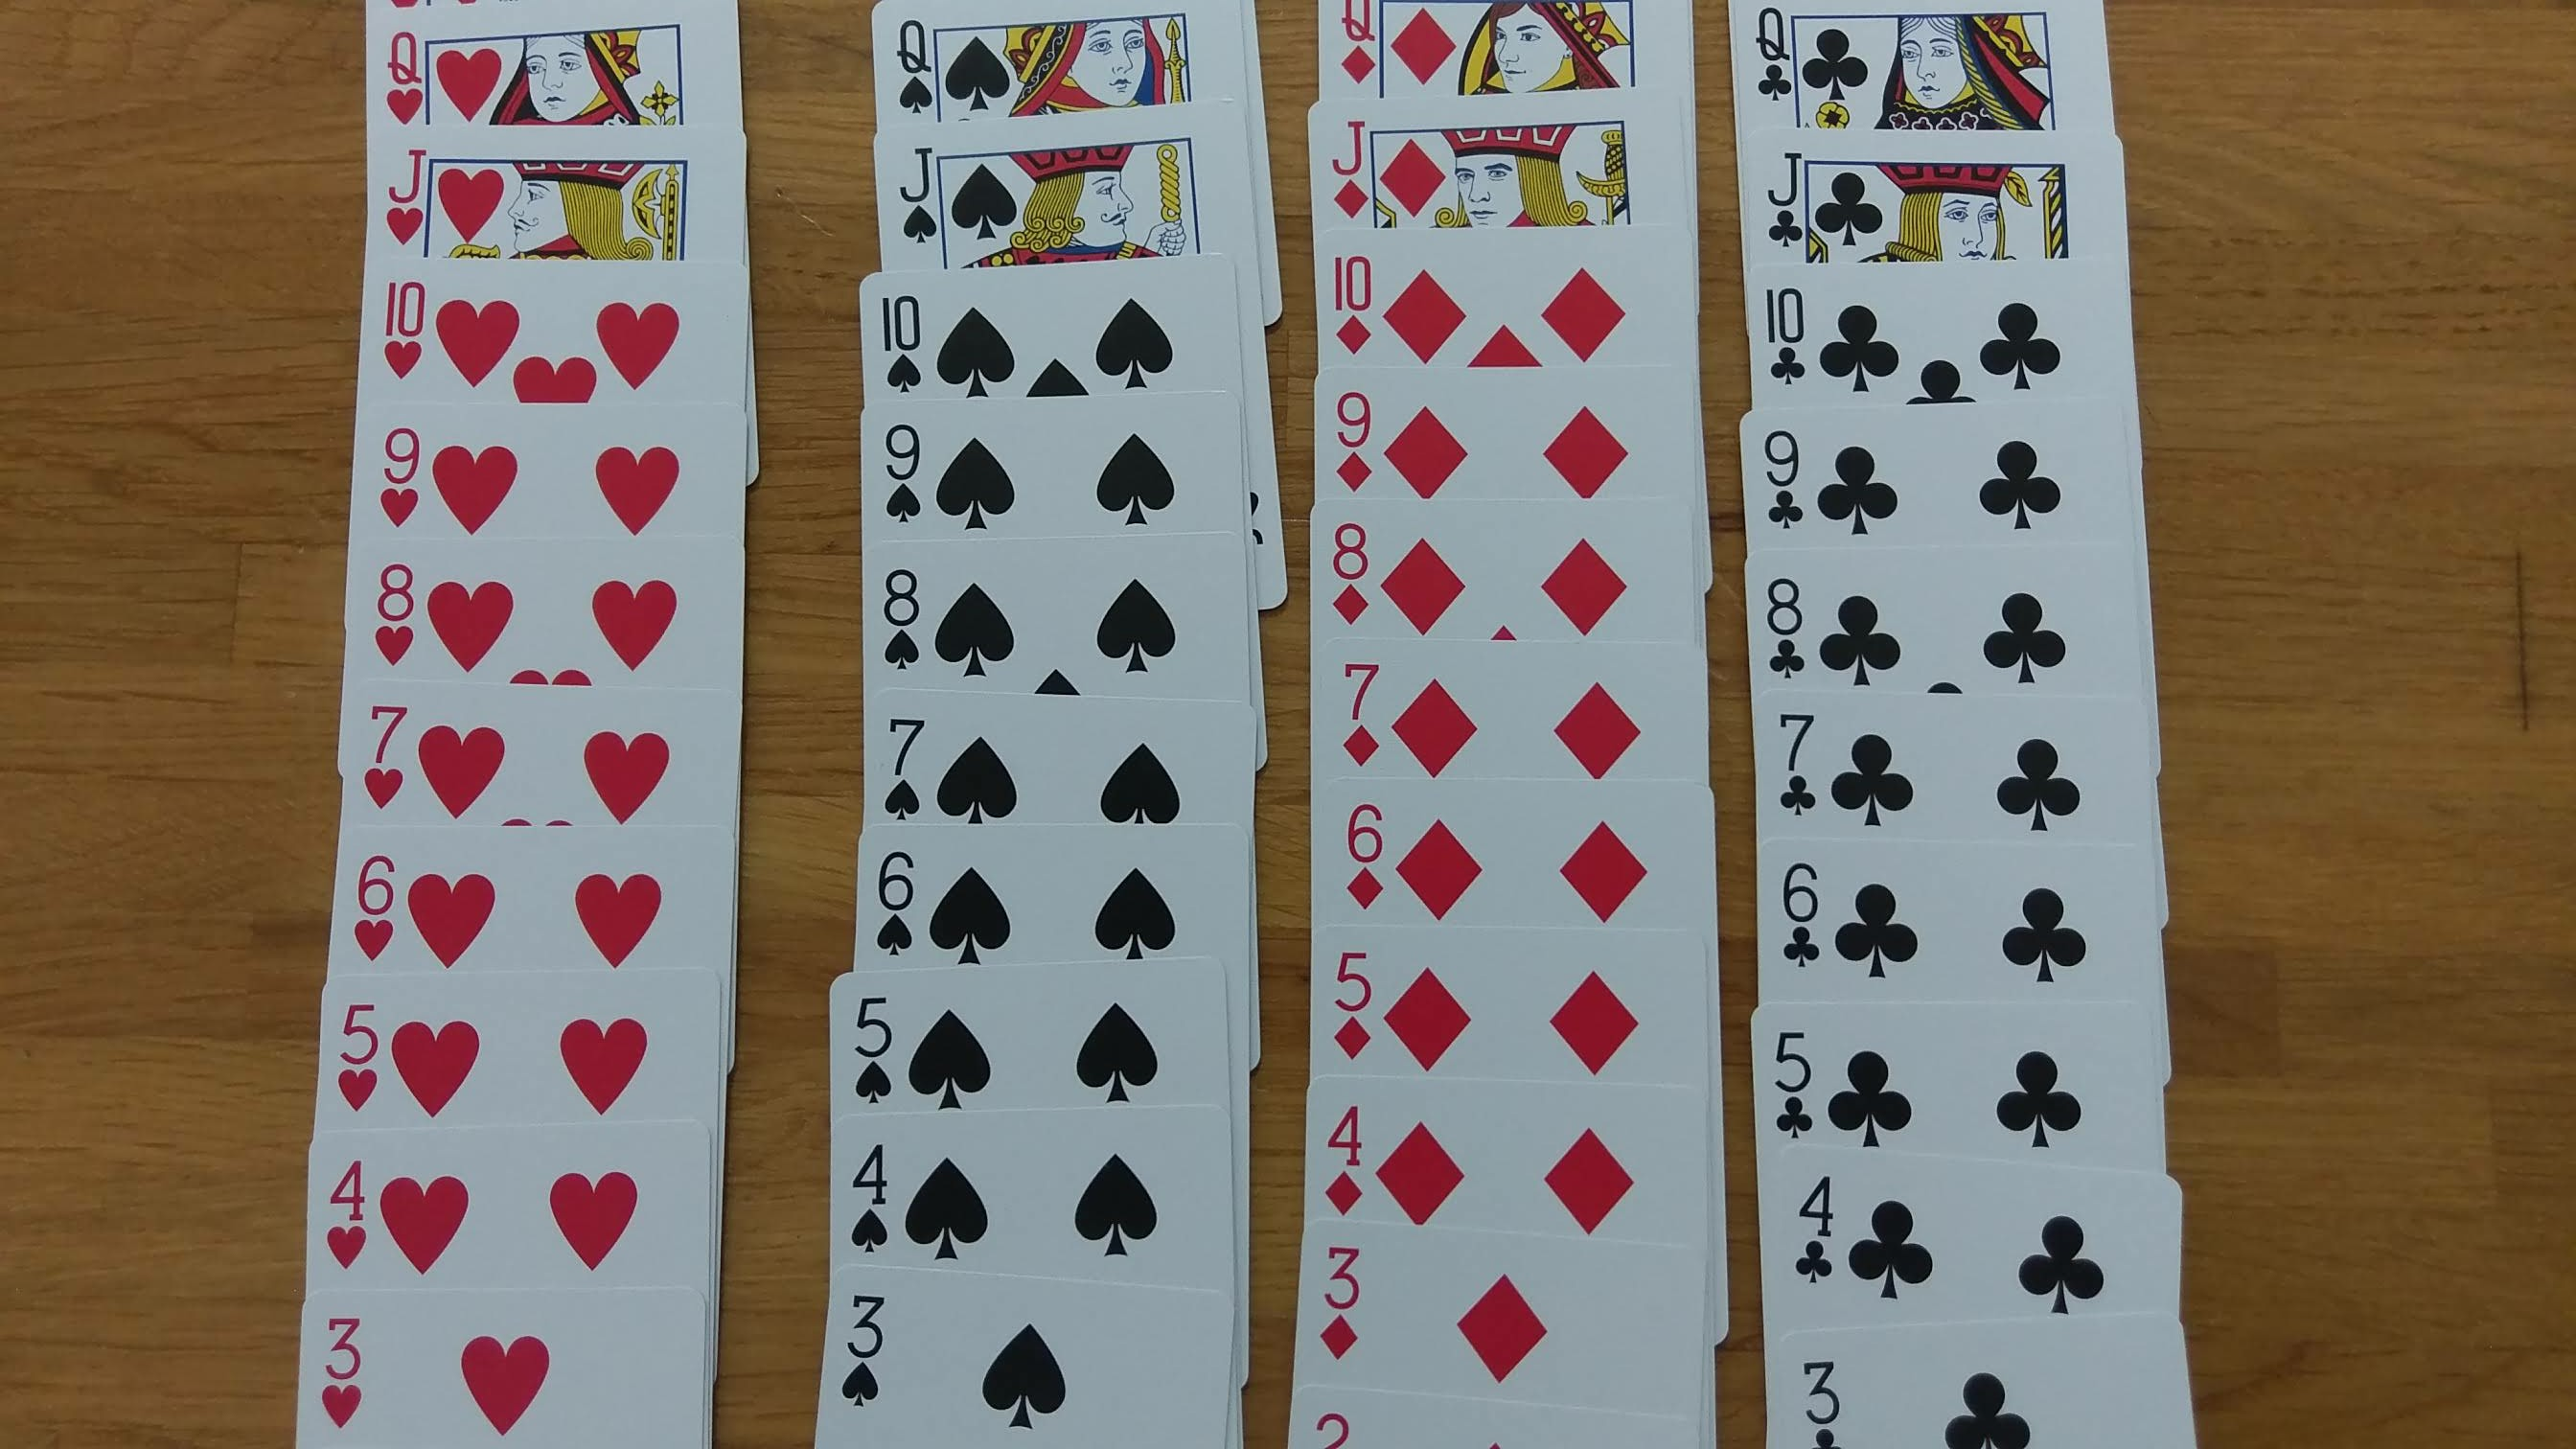10F: (1755, 274, 1822, 405)
10Q: (1323, 235, 1392, 368)
3Q: (1307, 1233, 1380, 1371)
4F: (1776, 1155, 1844, 1300)
4Q: (1318, 1093, 1373, 1221)
5F: (1760, 1008, 1831, 1150)
5Q: (1330, 932, 1380, 1077)
6F: (1764, 853, 1831, 984)
6Q: (1330, 787, 1396, 922)
7F: (1771, 702, 1831, 833)
7Q: (1336, 642, 1391, 773)
8F: (1757, 556, 1815, 692)
8Q: (1320, 513, 1380, 630)
9F: (1743, 425, 1821, 547)
9Q: (1329, 379, 1376, 501)
JF: (1748, 134, 1815, 258)
JQ: (1329, 106, 1376, 225)
QF: (1744, 4, 1810, 120)
